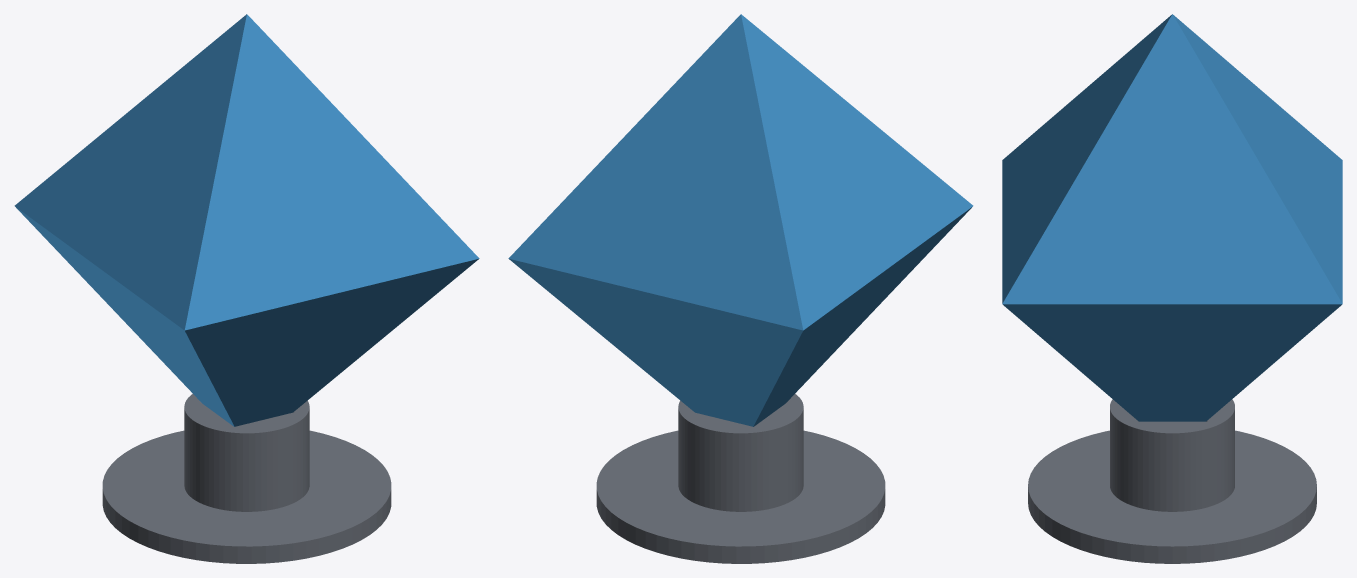
The model's file is default-preview.glb.
3 views of the same model, side by side, from view 1: azimuth 30°, elevation 25°; view 2: azimuth 150°, elevation 25°; view 3: azimuth 270°, elevation 25° (orthographic).
Parts seen in each view (by area): view 1: default_body, default_cradle; view 2: default_body, default_cradle; view 3: default_body, default_cradle.
Boxes of the visible parts, x1,y1,x2,y2 form: default_body: (14, 14, 479, 426); default_cradle: (102, 394, 391, 563); default_body: (508, 14, 973, 426); default_cradle: (596, 394, 885, 563); default_body: (1002, 14, 1342, 421); default_cradle: (1028, 399, 1316, 563).
Size of the model in its own units: 0.0707 by 0.112 by 0.0707.
